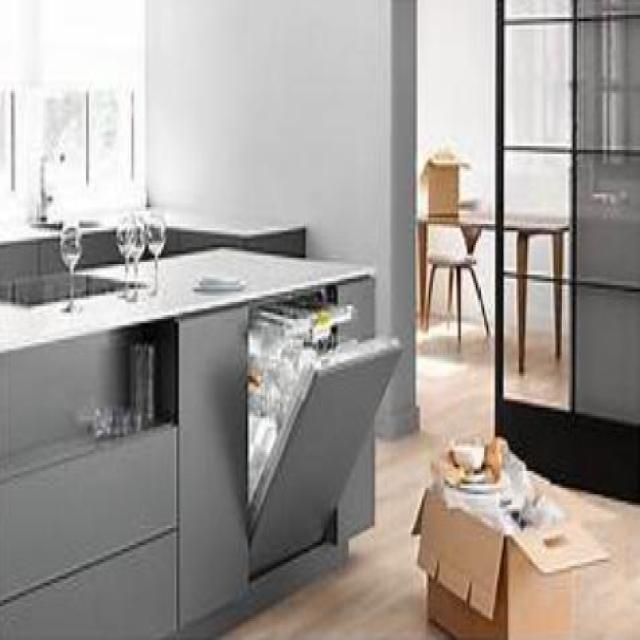dishwasher: (246, 279, 403, 574)
